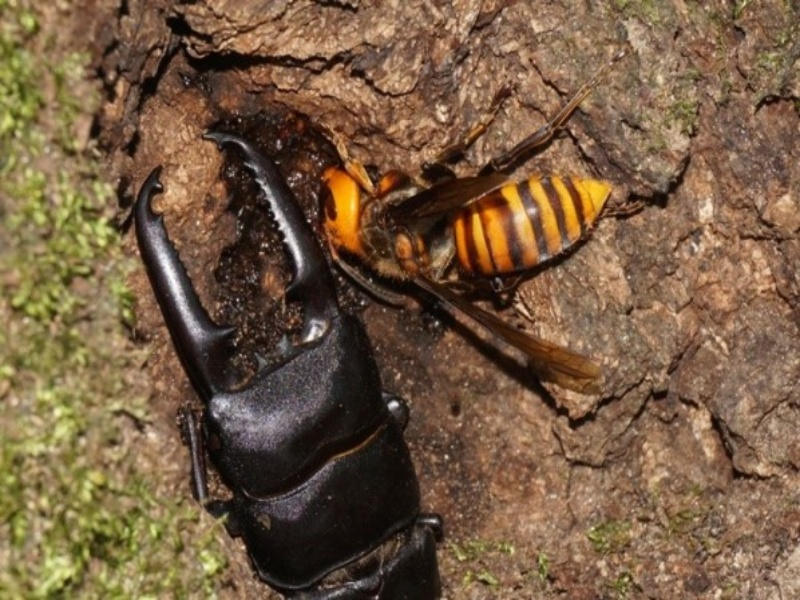asian_giant_hornet: (314, 156, 618, 290)
